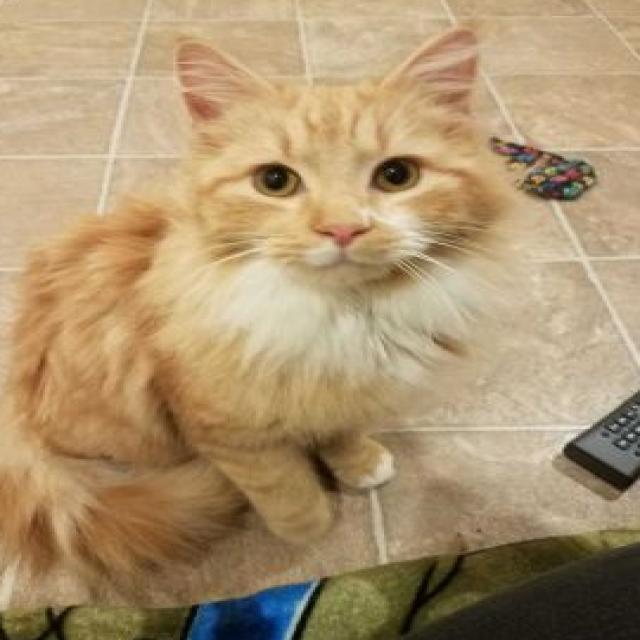Maine Coon: (0, 19, 529, 587)
